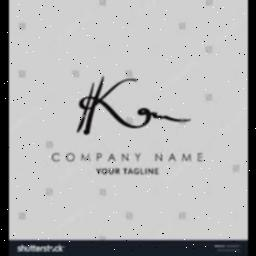k: (72, 73, 136, 137)
